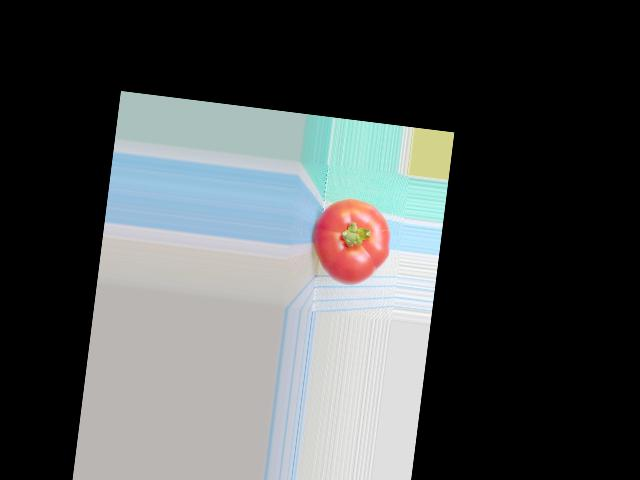tomato: (307, 194, 395, 288)
